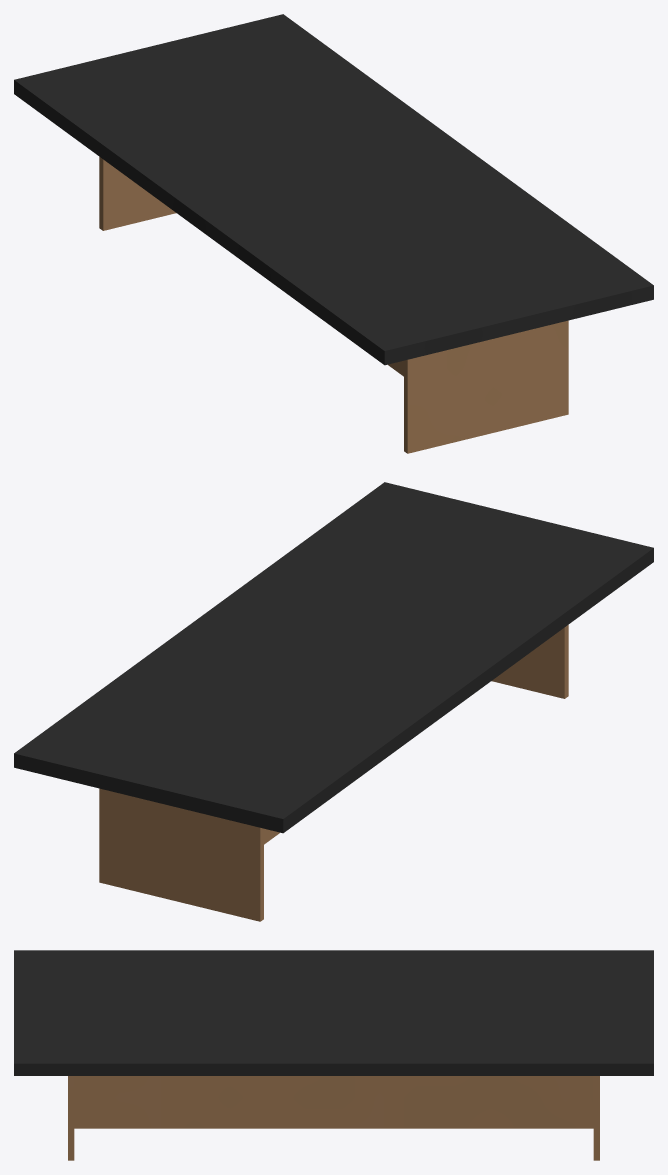
Rendered from Meeting_Table_04.fbx.
3 views of the same model, one above another, from view 1: azimuth 30°, elevation 25°; view 2: azimuth 150°, elevation 25°; view 3: azimuth 270°, elevation 25° (orthographic). The views are drawn at different scales.
Visible parts, largest first — view 1: Meeting_Table_04; view 2: Meeting_Table_04; view 3: Meeting_Table_04.
Boxes of the visible parts, x1,y1,x2,y2 form: Meeting_Table_04: (14, 14, 653, 453); Meeting_Table_04: (14, 482, 653, 921); Meeting_Table_04: (14, 950, 653, 1160).
Bounding box in the file's own units: 1.39 × 0.6867 × 3.32.
